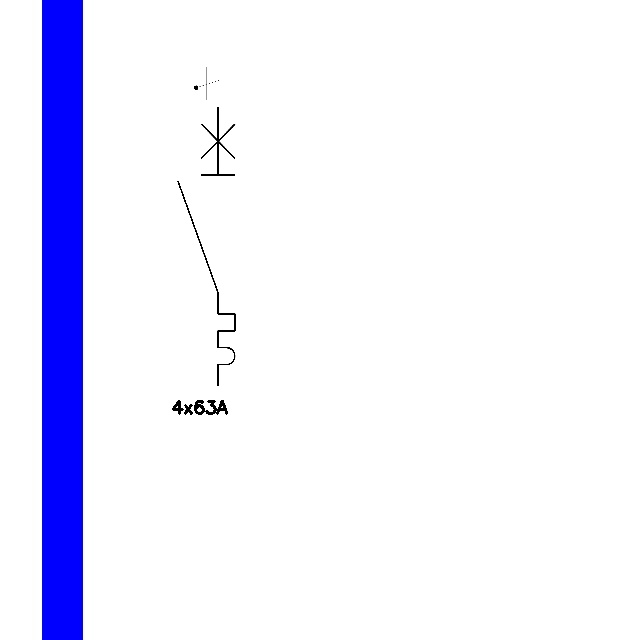interruptor_termomagnetico: (171, 100, 242, 392)
